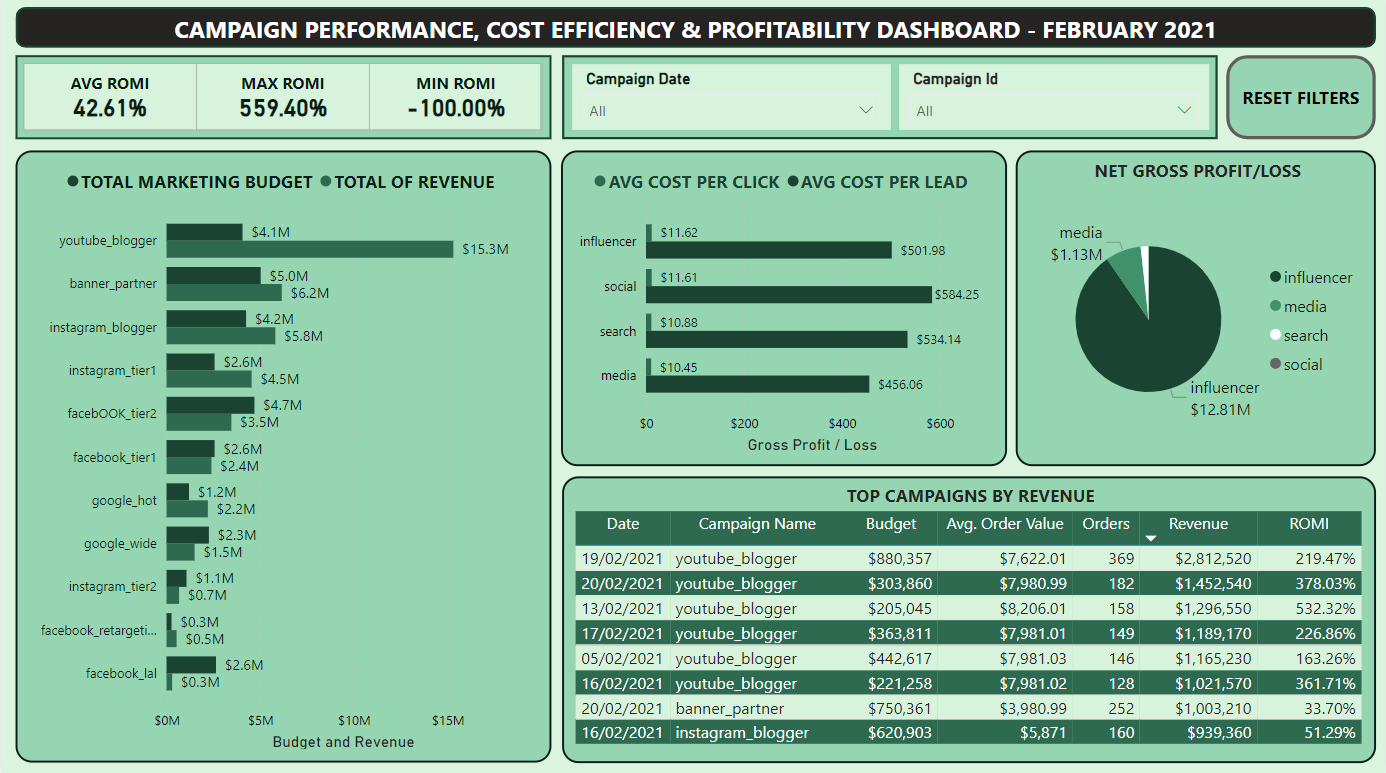

The page's visual inventory and layout, read from the dashboard file:
{"tool":"powerbi","page":{"name":"Campaign Performance Overview","canvas":[1280,720],"ordinal":0},"visuals":[{"type":"cardVisual","fields":{"Data":["Avg(Digital Marketing.ROMI)","Max(Digital Marketing.ROMI)1","Min(Digital Marketing.ROMI)2"]},"box":[13.7,53.7,495.4,77.6],"z":0},{"type":"tableEx","title":"TOP CAMPAIGNS BY REVENUE","fields":{"Values":["Digital Marketing.Campaign Date","Digital Marketing.Campaign Name","Digital Marketing.Marketing Budget - Money Spent","Digital Marketing.Average Order Value","Digital Marketing.Orders","Digital Marketing.Revenue","Digital Marketing.ROMI"]},"box":[519.4,442.9,752.3,264.8],"z":1000},{"type":"pieChart","title":"NET GROSS PROFIT/LOSS","fields":{"Category":["Digital Marketing.Category type"],"Y":["Sum(Digital Marketing.Gross Profit / Loss)"]},"box":[938.4,141.6,333.3,292.2],"z":2000},{"type":"clusteredBarChart","fields":{"Category":["Digital Marketing.Campaign Name"],"Y":["Sum(Digital Marketing.Marketing Budget - Money Spent)","Sum(Digital Marketing.Revenue)"]},"box":[13.7,141.6,495.4,566.2],"z":3000},{"type":"shape","box":[519.4,53.7,606.2,77.6],"z":4000},{"type":"slicer","fields":{"Values":["Digital Marketing.Campaign Date"]},"box":[528.6,61.6,294.5,60.5],"z":5000},{"type":"slicer","fields":{"Values":["Digital Marketing.Campaign Id"]},"box":[831.1,61.6,286.5,60.5],"z":6000},{"type":"clusteredBarChart","title":"TOTAL Gross Profit / Loss by Category type","fields":{"Category":["Digital Marketing.Category type"],"Y":["Avg(Digital Marketing.Cost Per Click (CPC))","Avg(Digital Marketing.Cost Per Lead (CPL))"]},"box":[518.3,141.6,412.1,292.2],"z":7000},{"type":"shape","box":[13.7,9.1,1258,37.7],"z":8000},{"type":"textbox","box":[13.7,9.1,1258,44.5],"z":9000},{"type":"actionButton","box":[1133.6,53.7,138.1,77.6],"z":10000}]}

Visuals, with their boxes in screenshot pixels (x1, y1, x2, y2), scaled from the page's 1280x720 canvas onto the 1386x773 screenshot:
cardVisual - Avg(Digital Marketing.ROMI) x Max(Digital Marketing.ROMI)1: {"x1": 15, "y1": 58, "x2": 551, "y2": 141}
"TOP CAMPAIGNS BY REVENUE" tableEx: {"x1": 562, "y1": 476, "x2": 1377, "y2": 760}
"NET GROSS PROFIT/LOSS" pieChart: {"x1": 1016, "y1": 152, "x2": 1377, "y2": 466}
clusteredBarChart - Digital Marketing.Campaign Name x Sum(Digital Marketing.Marketing Budget - Money Spent): {"x1": 15, "y1": 152, "x2": 551, "y2": 760}
shape: {"x1": 562, "y1": 58, "x2": 1219, "y2": 141}
slicer - Digital Marketing.Campaign Date: {"x1": 572, "y1": 66, "x2": 891, "y2": 131}
slicer - Digital Marketing.Campaign Id: {"x1": 900, "y1": 66, "x2": 1210, "y2": 131}
"TOTAL Gross Profit / Loss by Category type" clusteredBarChart: {"x1": 561, "y1": 152, "x2": 1007, "y2": 466}
shape: {"x1": 15, "y1": 10, "x2": 1377, "y2": 50}
textbox: {"x1": 15, "y1": 10, "x2": 1377, "y2": 58}
actionButton: {"x1": 1227, "y1": 58, "x2": 1377, "y2": 141}
